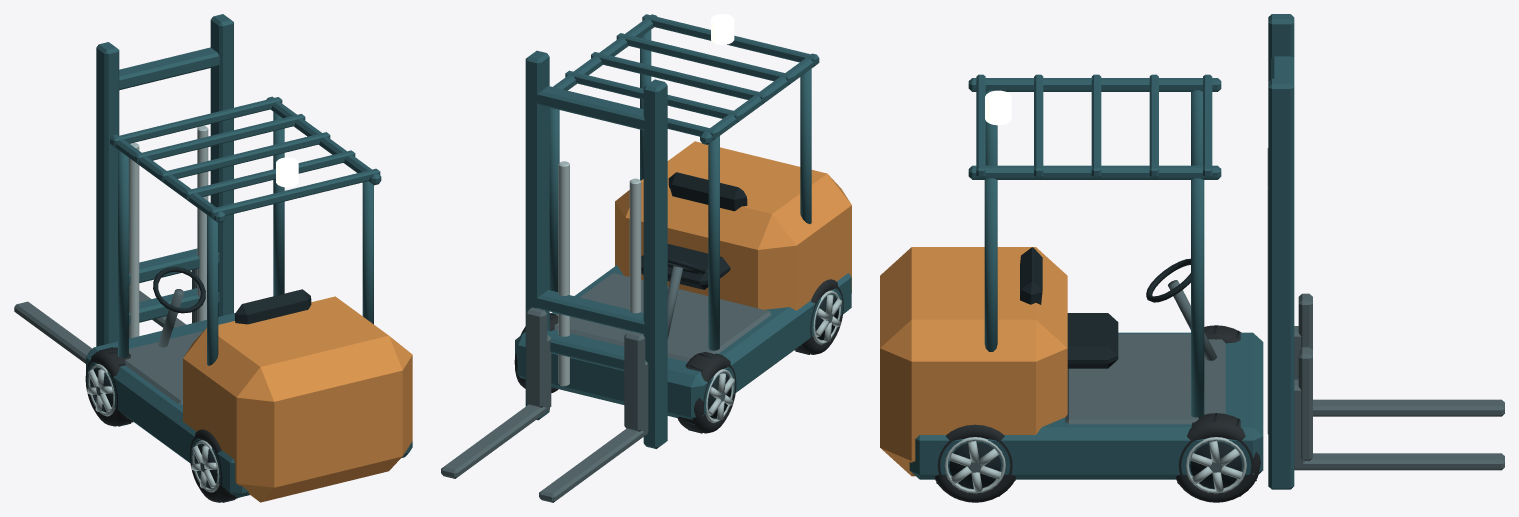
Rendered from dock-forklift.glb.
3 renders of one model, left to right at view 1: azimuth 30°, elevation 25°; view 2: azimuth 150°, elevation 25°; view 3: azimuth 270°, elevation 25°, orthographic. The views are drawn at different scales.
Parts seen in each view (by area): view 1: Counterweight, Mast rail, Chassis, Mast rail.001, Driver deck, Overhead guard, Mast crossmember.002, Hydraulic ram, Overhead crossmember.004, Overhead crossmember.002, Overhead crossmember, Overhead crossmember.001 (+16 smaller); view 2: Counterweight, Chassis, Mast rail, Driver deck, Mast rail.001, Overhead guard, Mast crossmember.002, Mast crossmember.001, Hydraulic ram.001, Carriage, Carriage.001, Forged fork (+19 smaller); view 3: Counterweight, Chassis, Driver deck, Mast rail.001, Forged fork.001, Forged fork, Overhead guard.002, Guard top.001, Guard top, Operator seat, Rounded tire carcass.010, Overhead guard.003 (+15 smaller).
Boxes of the visible parts, bbox=[...] form: Counterweight: bbox=[183, 296, 412, 502]; Mast rail: bbox=[96, 42, 119, 346]; Chassis: bbox=[86, 313, 412, 497]; Mast rail.001: bbox=[210, 14, 233, 316]; Driver deck: bbox=[125, 331, 203, 404]; Overhead guard: bbox=[118, 150, 128, 357]; Mast crossmember.002: bbox=[119, 47, 219, 90]; Hydraulic ram: bbox=[129, 143, 139, 338]; Overhead crossmember.004: bbox=[209, 168, 380, 218]; Overhead crossmember.002: bbox=[159, 132, 330, 182]; Overhead crossmember: bbox=[111, 97, 282, 146]; Overhead crossmember.001: bbox=[134, 114, 305, 163]; Counterweight: bbox=[615, 141, 851, 310]; Chassis: bbox=[515, 265, 851, 419]; Mast rail: bbox=[643, 79, 667, 448]; Driver deck: bbox=[554, 273, 771, 361]; Mast rail.001: bbox=[525, 50, 549, 420]; Overhead guard: bbox=[708, 136, 719, 350]; Mast crossmember.002: bbox=[527, 86, 653, 131]; Mast crossmember.001: bbox=[537, 290, 653, 335]; Hydraulic ram.001: bbox=[558, 161, 569, 386]; Carriage: bbox=[624, 331, 645, 431]; Carriage.001: bbox=[526, 307, 547, 407]; Forged fork: bbox=[539, 428, 647, 502]; Counterweight: bbox=[880, 247, 1067, 476]; Chassis: bbox=[909, 332, 1263, 479]; Driver deck: bbox=[1065, 334, 1225, 424]; Mast rail.001: bbox=[1268, 78, 1294, 489]; Forged fork.001: bbox=[1294, 453, 1504, 470]; Forged fork: bbox=[1313, 399, 1504, 416]; Overhead guard.002: bbox=[1191, 178, 1204, 417]; Guard top.001: bbox=[968, 165, 1221, 179]; Guard top: bbox=[968, 78, 1221, 91]; Operator seat: bbox=[1067, 313, 1118, 368]; Rounded tire carcass.010: bbox=[1175, 413, 1260, 502]; Overhead guard.003: bbox=[984, 178, 997, 351].
Size of the model in its own units: 1.76 by 3.11 by 4.33.
